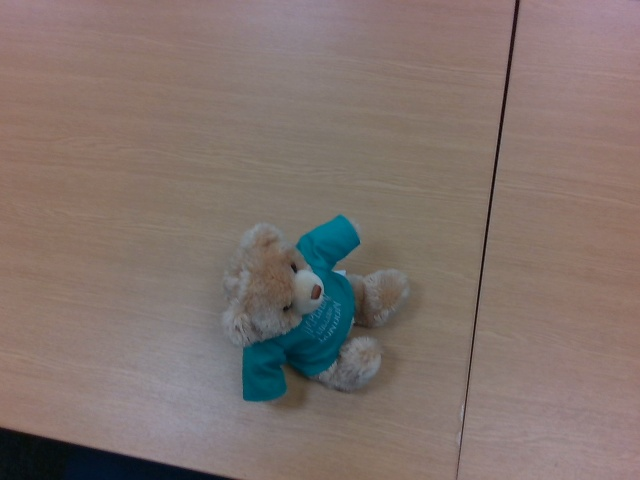teddy: (221, 214, 410, 401)
